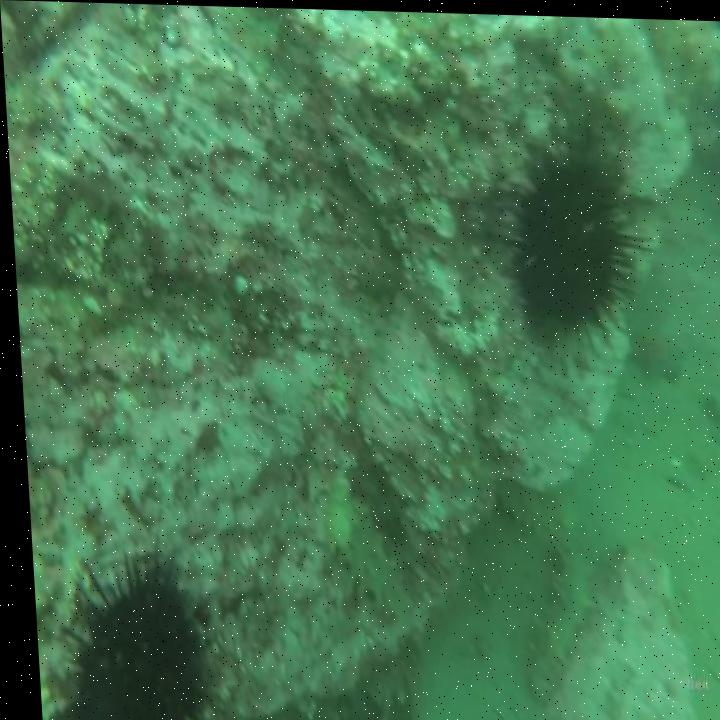echinus: (28, 533, 218, 720), (495, 122, 646, 354)
holothurian: (313, 474, 411, 636), (507, 534, 594, 705), (487, 475, 583, 543)
